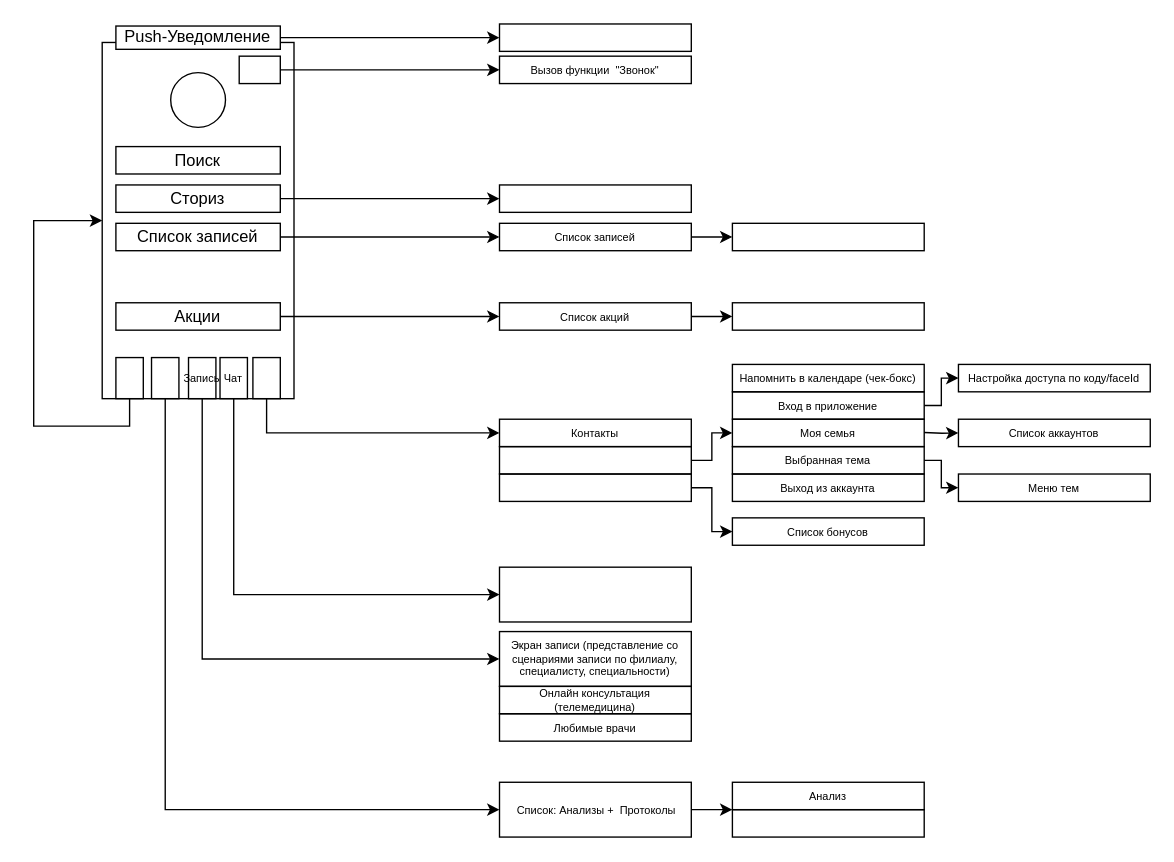
The diagram is 1174 pixels wide and 862 high, and some of its shapes have lost their labels. The centre of each missing label's shape, as x and y in pixels:
"Бонусы" belongs at (x=594, y=487).
"Вызов" belongs at (x=259, y=69).
"Главная" belongs at (x=129, y=377).
"Лого" belongs at (x=197, y=99).
"Мед карта" belongs at (x=164, y=377).
"Настройки" belongs at (x=594, y=459).
"Описание акции" belongs at (x=827, y=315).
"Опрос" belongs at (x=594, y=37).
"Перенести/отменить запись" belongs at (x=827, y=236).
"Переход в мессенджер/ реализация чата" belongs at (x=594, y=594).
"Просмотр сториз" belongs at (x=594, y=198).
"Протокол" belongs at (x=827, y=822).
"Профиль" belongs at (x=266, y=377).
